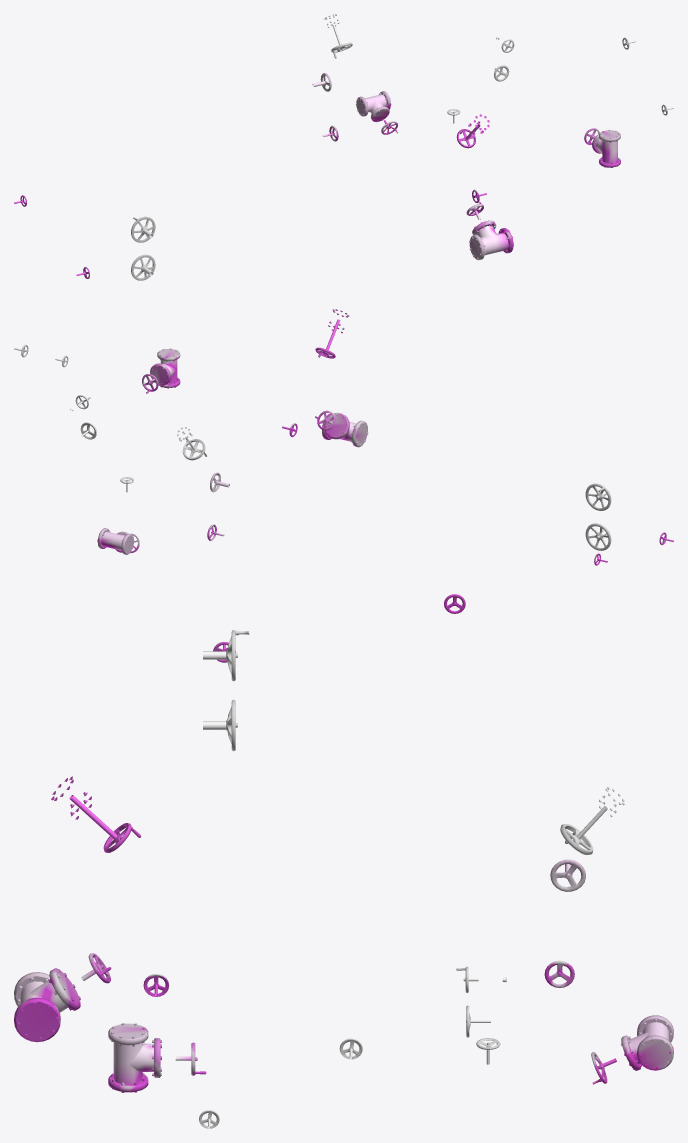
The model's file is SM_ElectricRoom_Valves.fbx.
3 renders of one model, top to bottom at view 1: azimuth 30°, elevation 25°; view 2: azimuth 150°, elevation 25°; view 3: azimuth 270°, elevation 25°, orthographic. The views are drawn at different scales.
Visible parts, largest first — view 1: SM_ElectricRoom_Valves_LOD0; view 2: SM_ElectricRoom_Valves_LOD0; view 3: SM_ElectricRoom_Valves_LOD0.
Boxes of the visible parts, box(x1,y1,x2,y2) form: SM_ElectricRoom_Valves_LOD0: box(14, 14, 673, 280); SM_ElectricRoom_Valves_LOD0: box(14, 309, 673, 565); SM_ElectricRoom_Valves_LOD0: box(14, 594, 673, 1128).
Size of the model in its own units: 1194 by 626 by 267.
